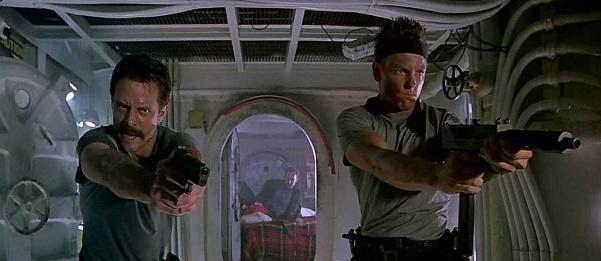Gun: (448, 123, 577, 161), (172, 147, 212, 186)
